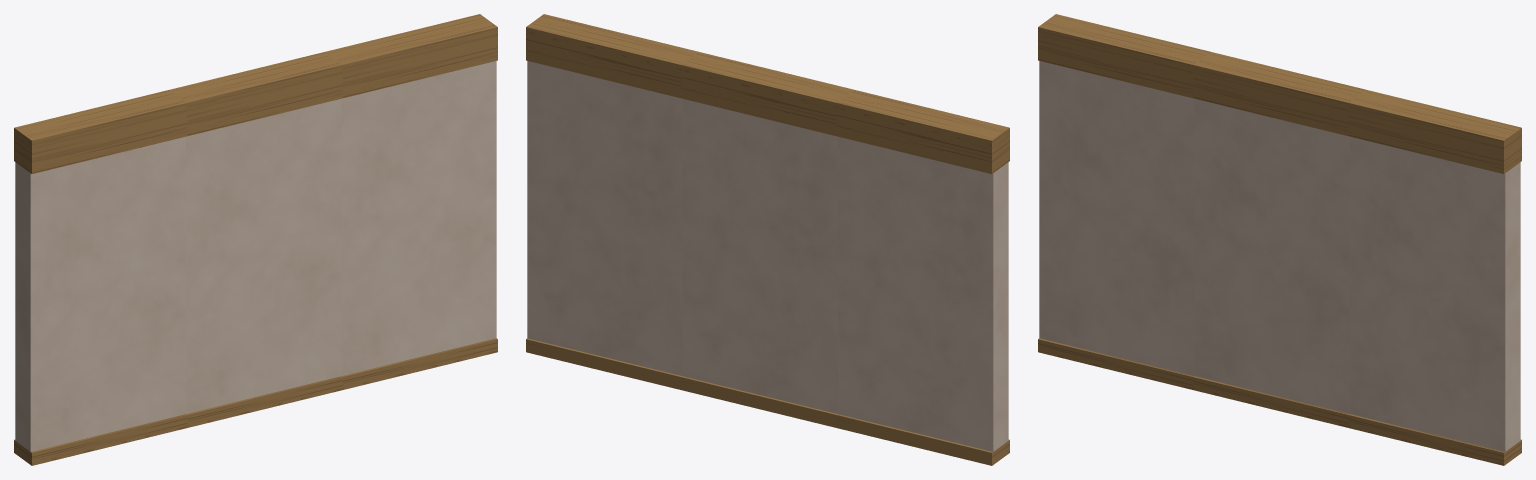
File: wall_3.fbx
3 renders of one model, left to right at view 1: azimuth 30°, elevation 25°; view 2: azimuth 150°, elevation 25°; view 3: azimuth 330°, elevation 25°, orthographic.
Visible parts, largest first — view 1: Cube.242; view 2: Cube.242; view 3: Cube.242.
Part boxes in pixels (box(x1,y1,x2,y2)): Cube.242: box(14, 14, 497, 465); Cube.242: box(526, 14, 1009, 465); Cube.242: box(1038, 14, 1521, 465).
Size of the model in its own units: 300 by 200 by 20.
